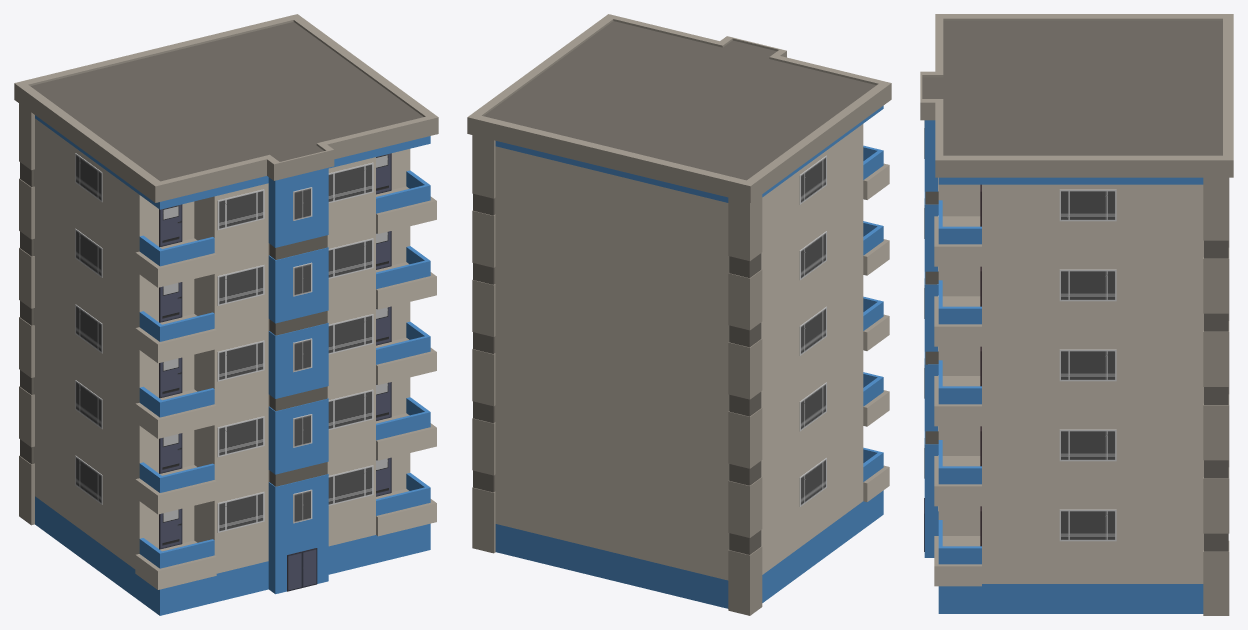
The model's file is building02_color03.fbx.
3 renders of one model, left to right at view 1: azimuth 30°, elevation 25°; view 2: azimuth 150°, elevation 25°; view 3: azimuth 270°, elevation 25°, orthographic. The views are drawn at different scales.
Parts seen in each view (by area): view 1: building02_color03; view 2: building02_color03; view 3: building02_color03.
Part boxes in pixels (box(x1,y1,x2,y2)): building02_color03: box(14, 14, 438, 615); building02_color03: box(467, 14, 891, 615); building02_color03: box(920, 14, 1233, 615).
Bounding box in the file's own units: 1751 × 2553 × 1586.
